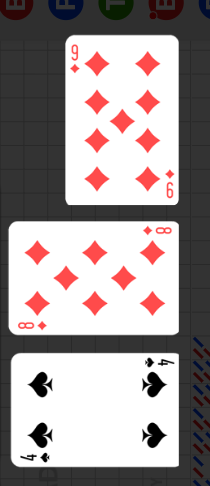4S: (19, 450, 53, 463)
9D: (164, 167, 176, 200), (69, 43, 81, 75)
